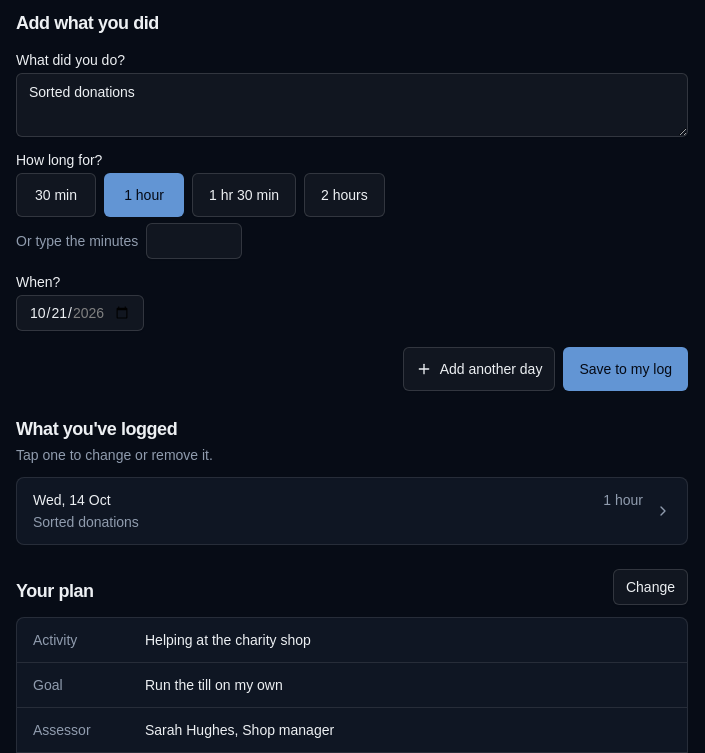
logging a week › keeps what they typed and shows the API's reason when the save is refused
The width and height of the screenshot is (705, 753).
(page scrolled)
Click the button "Save to my log" at (626, 369), box [563,347,688,391]
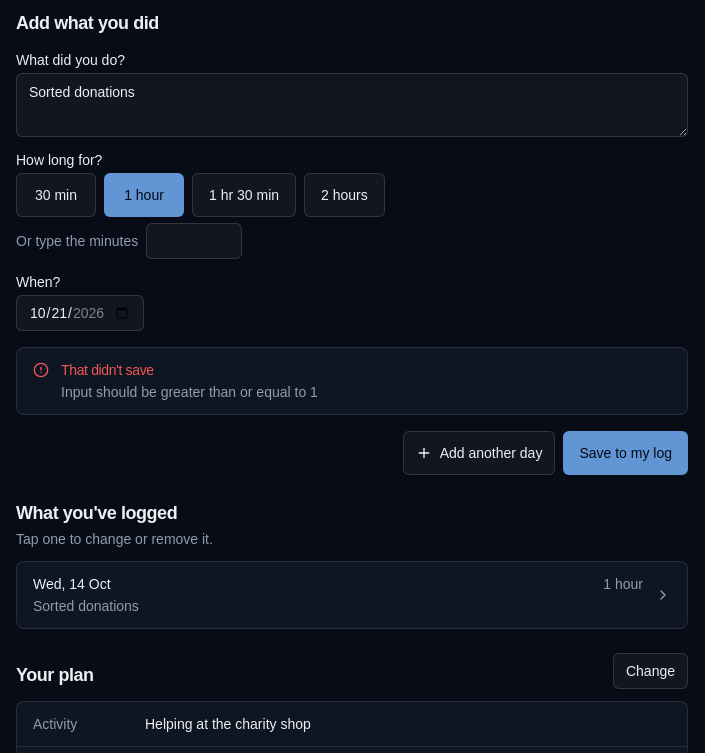
Expected: the text box labelled "What did you do?" holds "Sorted donations", [16,73,688,137]
Expected: the text "Input should be greater than or equal to 1" is shown, [61,384,318,400]
